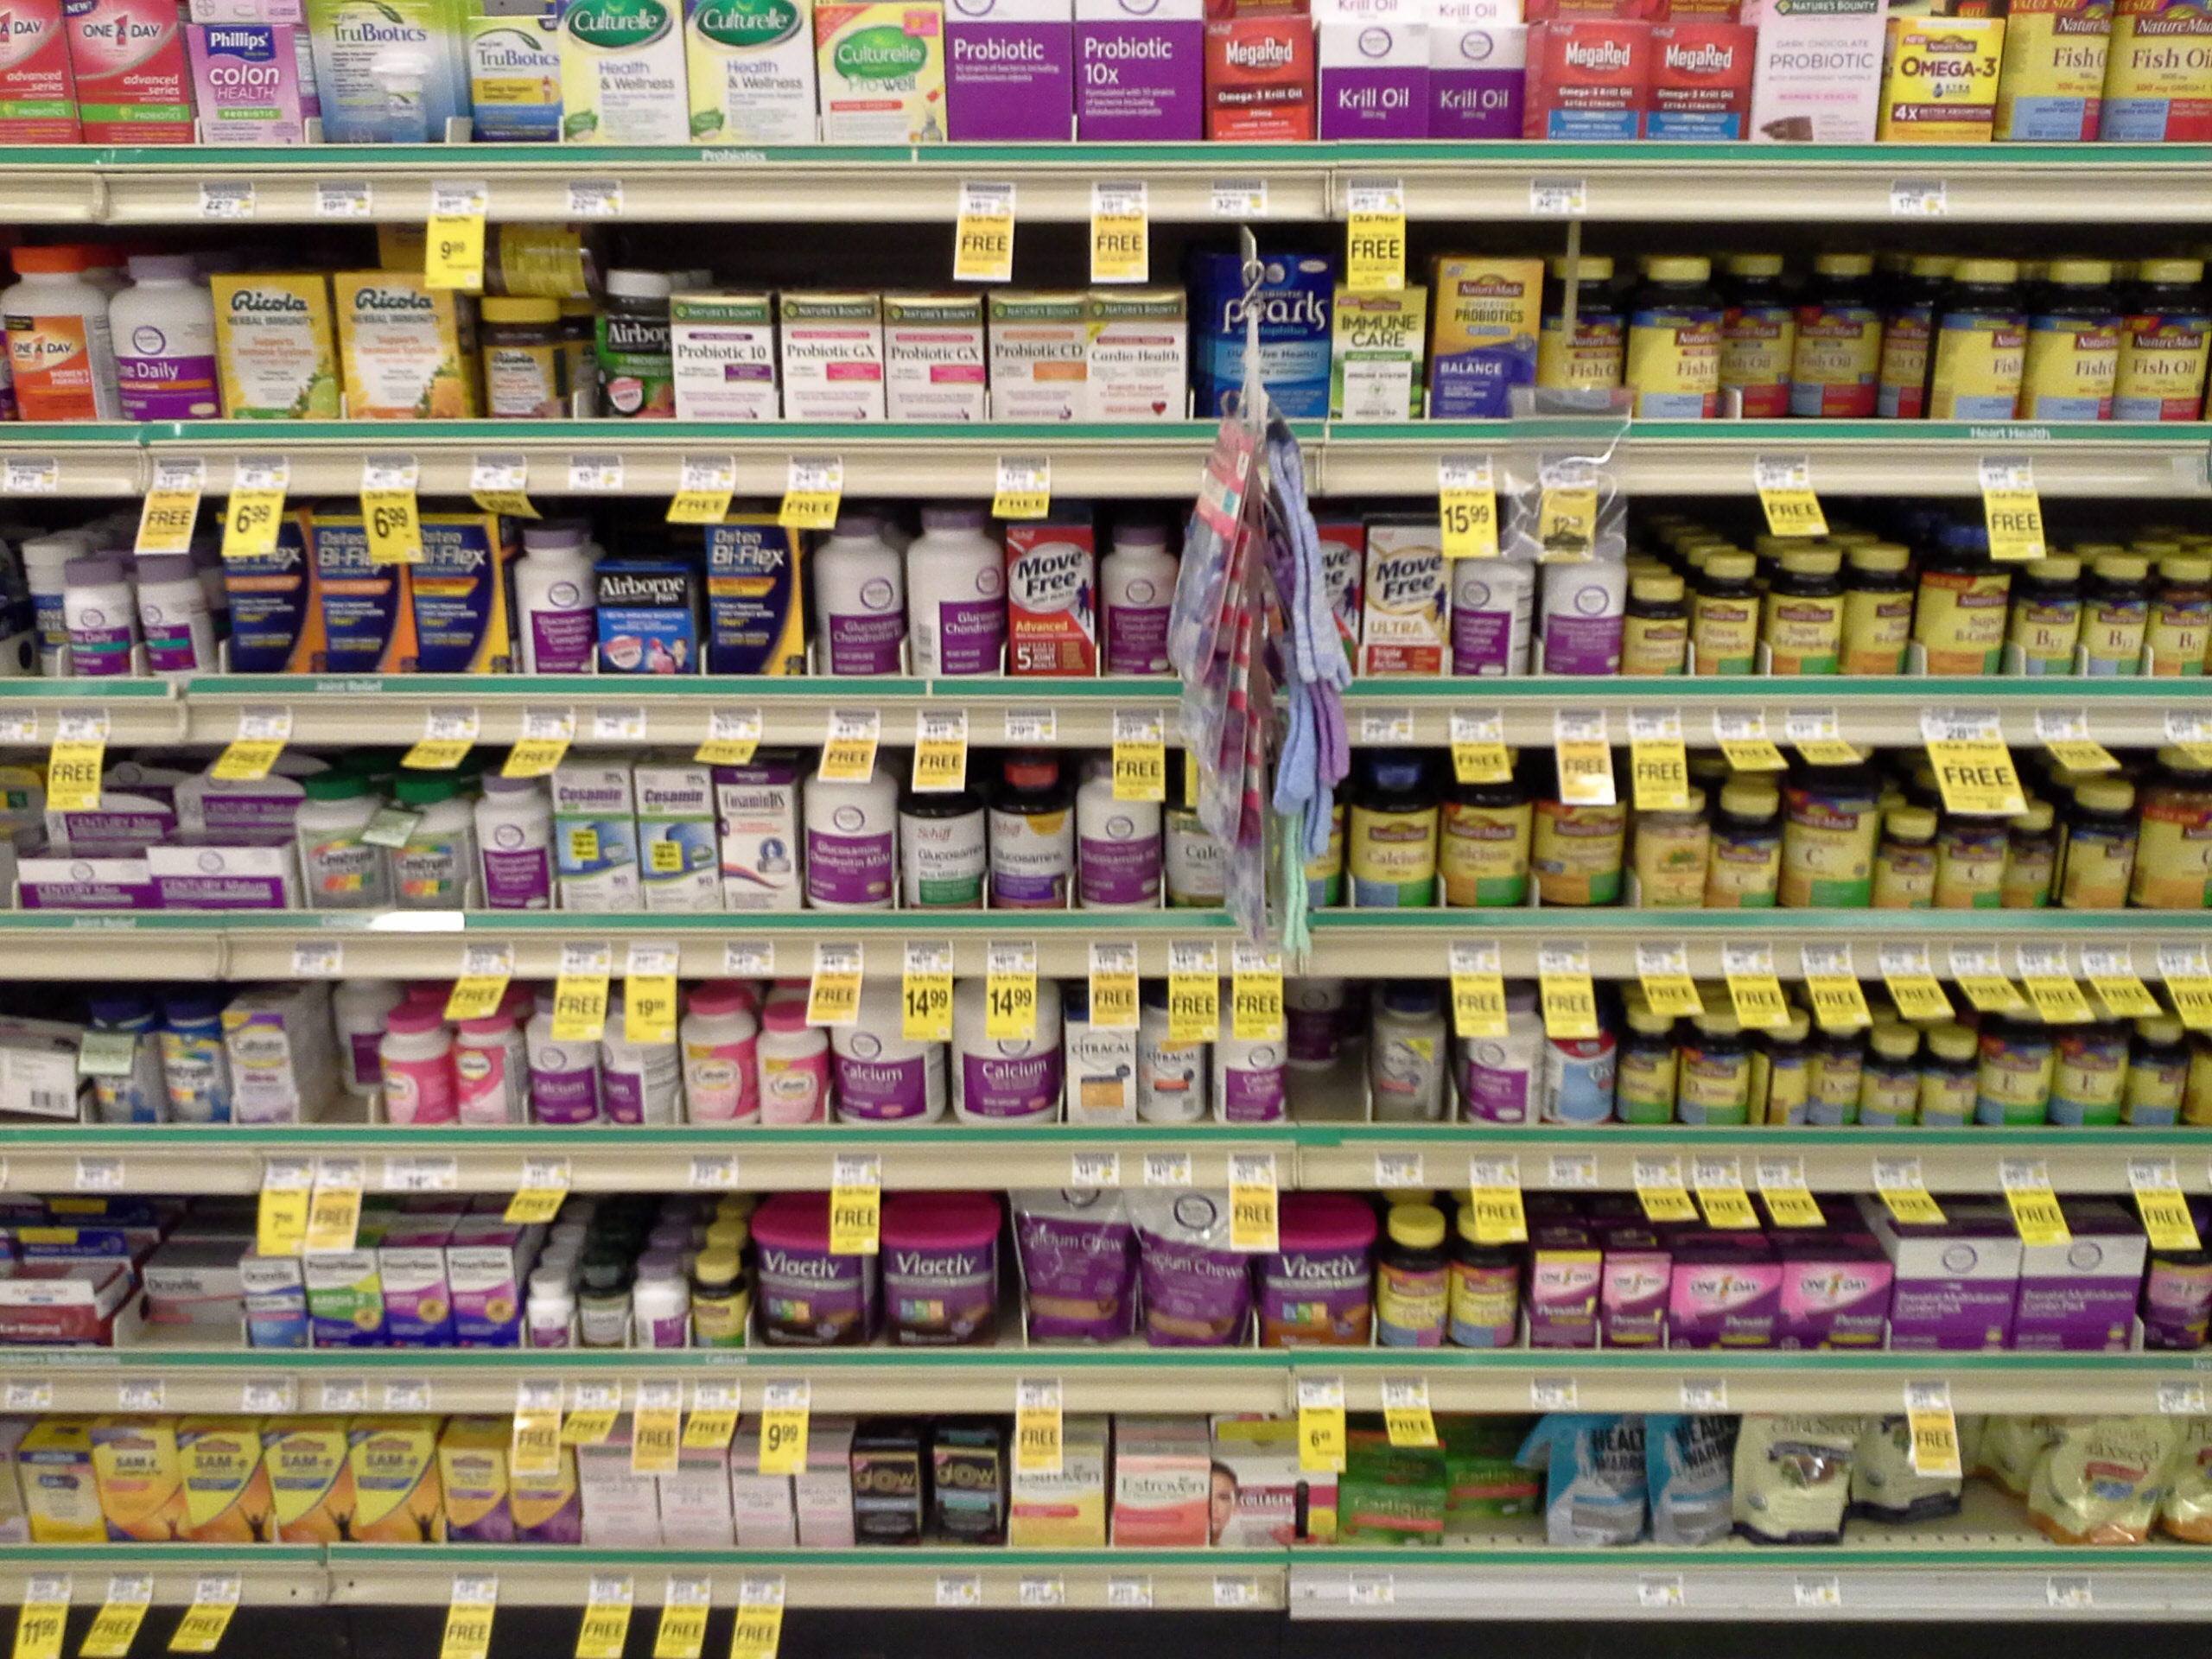Misplacement: (1284, 978, 1369, 1127)
